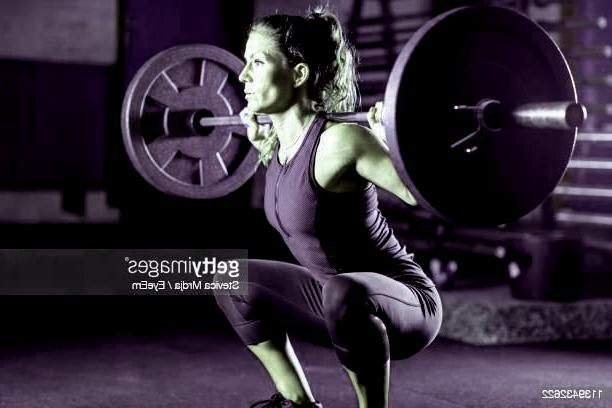Barbell: (561, 100, 589, 132)
